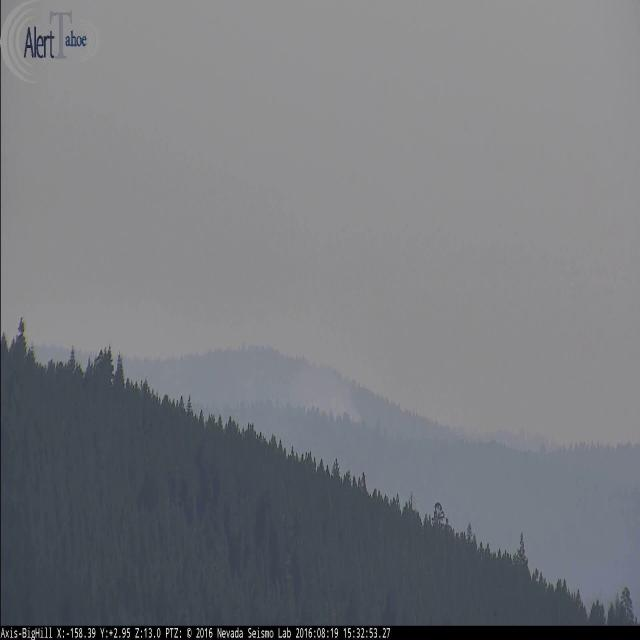smoke: (256, 342, 364, 424)
